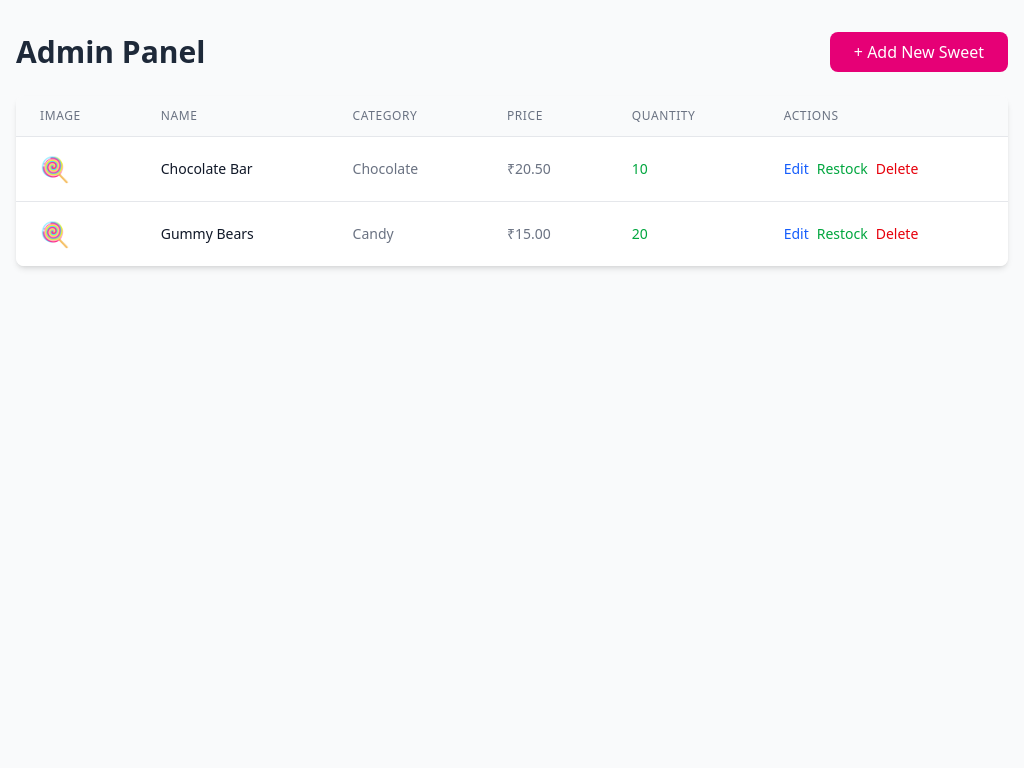
Test case: AdminPanel Page › should show edit form when Edit button is clicked
The width and height of the screenshot is (1024, 768).
Check: the text "Chocolate Bar" is shown, box [137, 136, 328, 202]
Click the button "Edit" in the row of "Chocolate Bar": (796, 169) [784, 159, 809, 179]
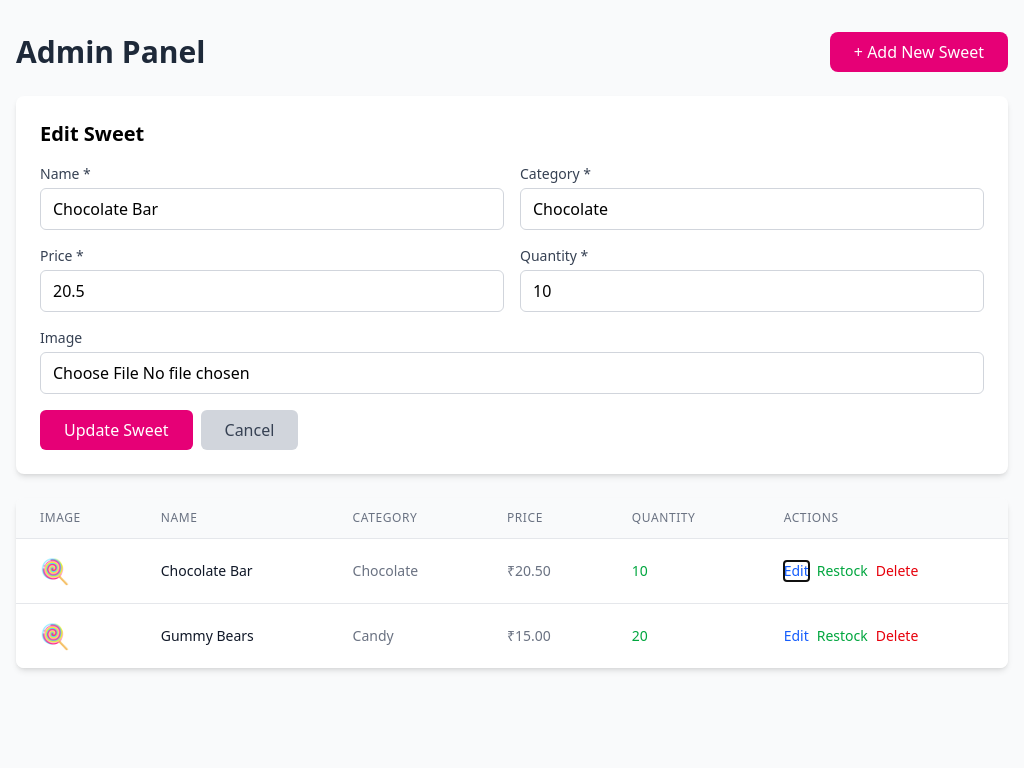
Check: the heading "Edit Sweet" is shown, box [40, 120, 144, 147]
Check: the field showing "Chocolate Bar" below "Name *" is shown, box [40, 188, 504, 230]
